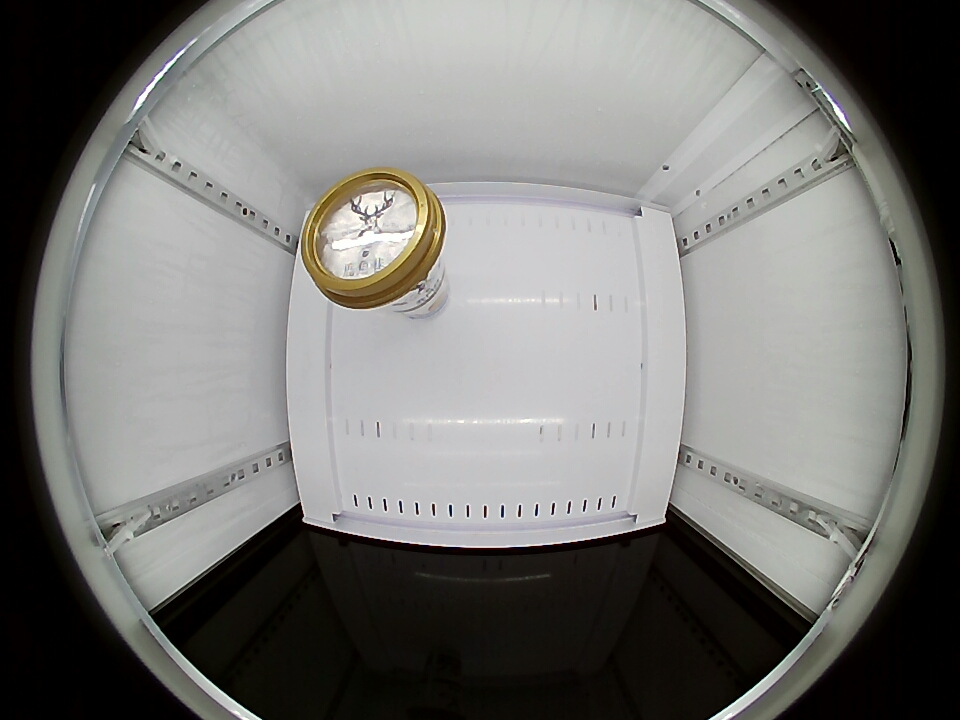lujiaoxiang: (300, 169, 446, 310)
